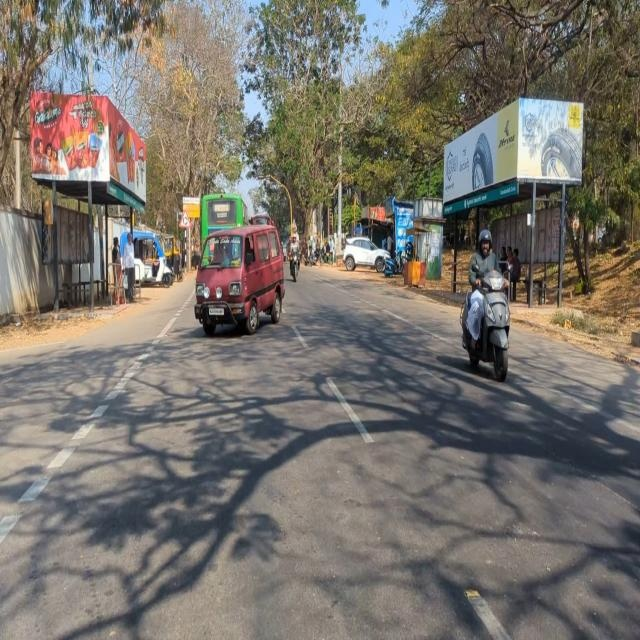bien_nguy_hiem: (179, 209, 191, 228)
